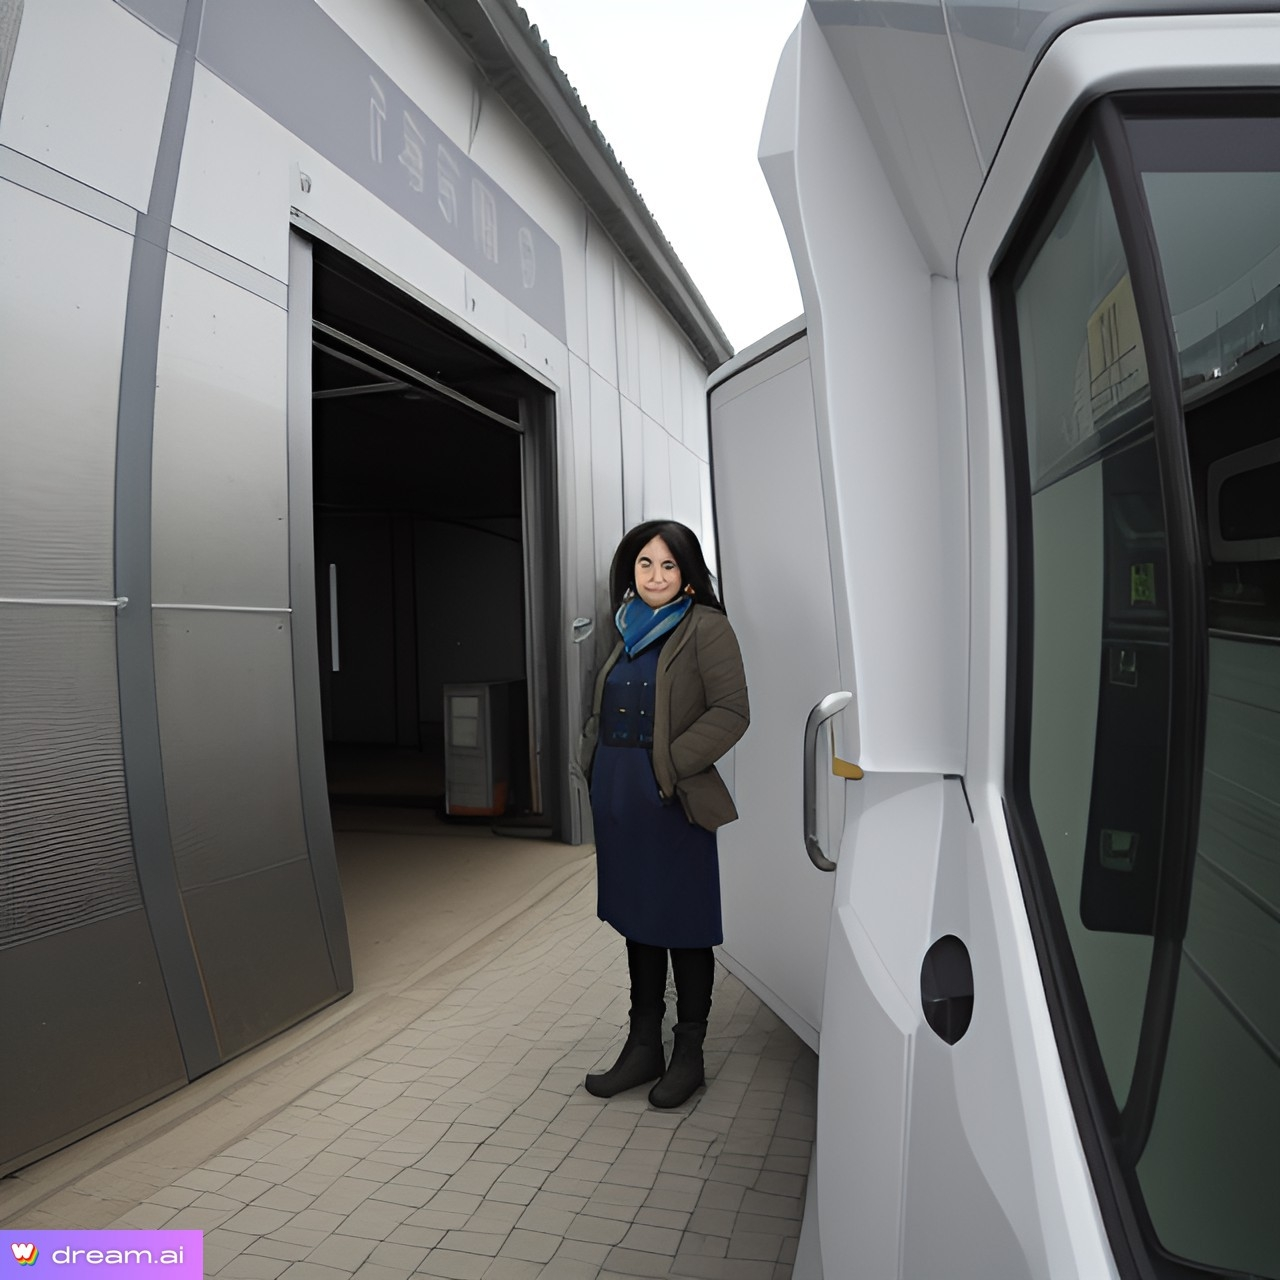door_front: (697, 302, 869, 1058)
